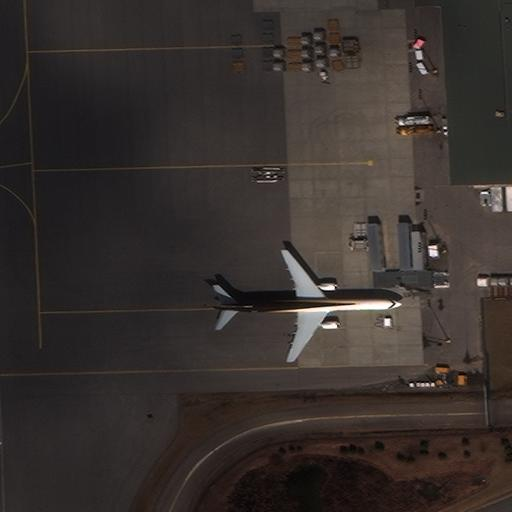Large Civil Transport: (218, 249, 402, 363)
